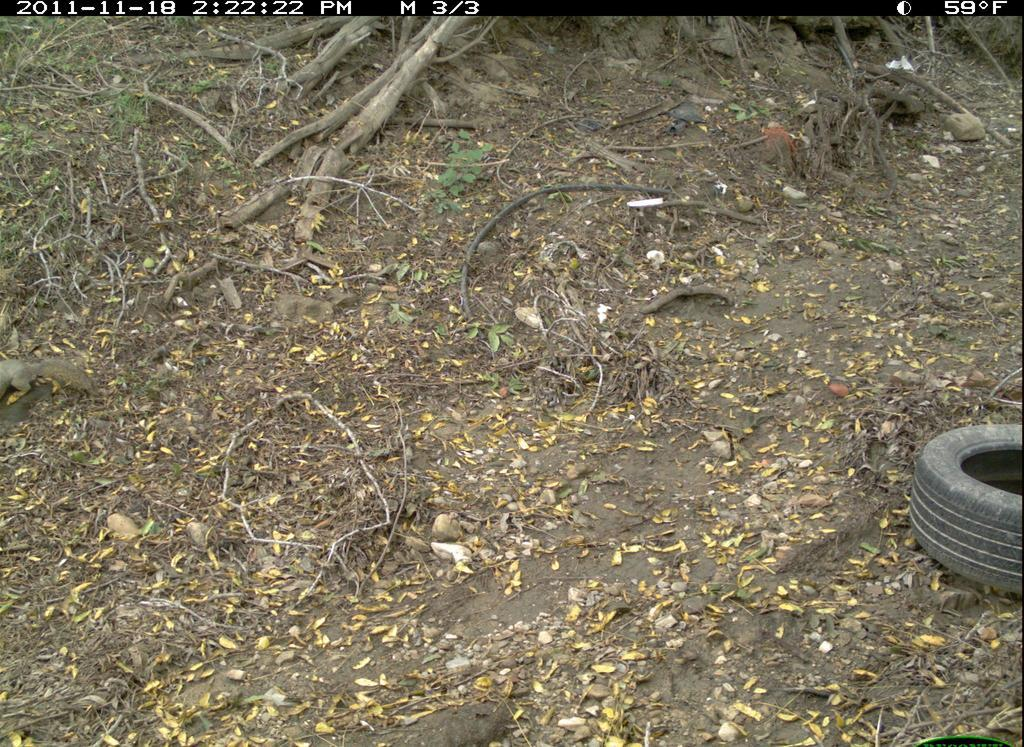squirrel: (4, 338, 107, 413)
